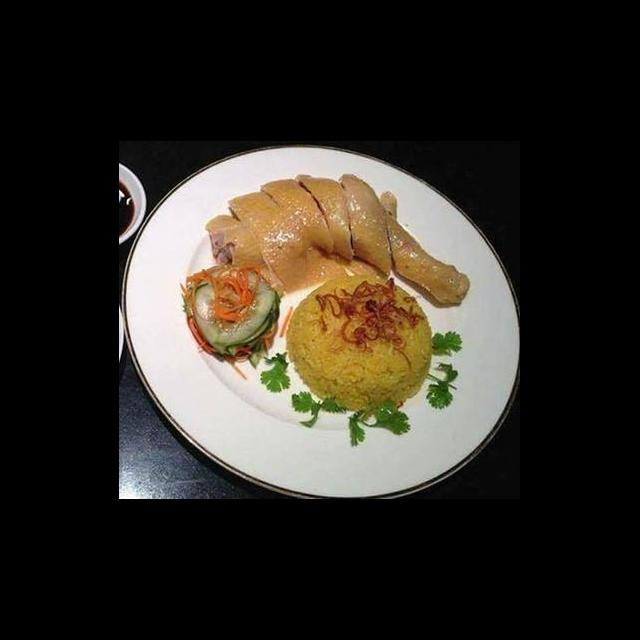com: (282, 272, 436, 416)
thit ga: (202, 168, 472, 310)
